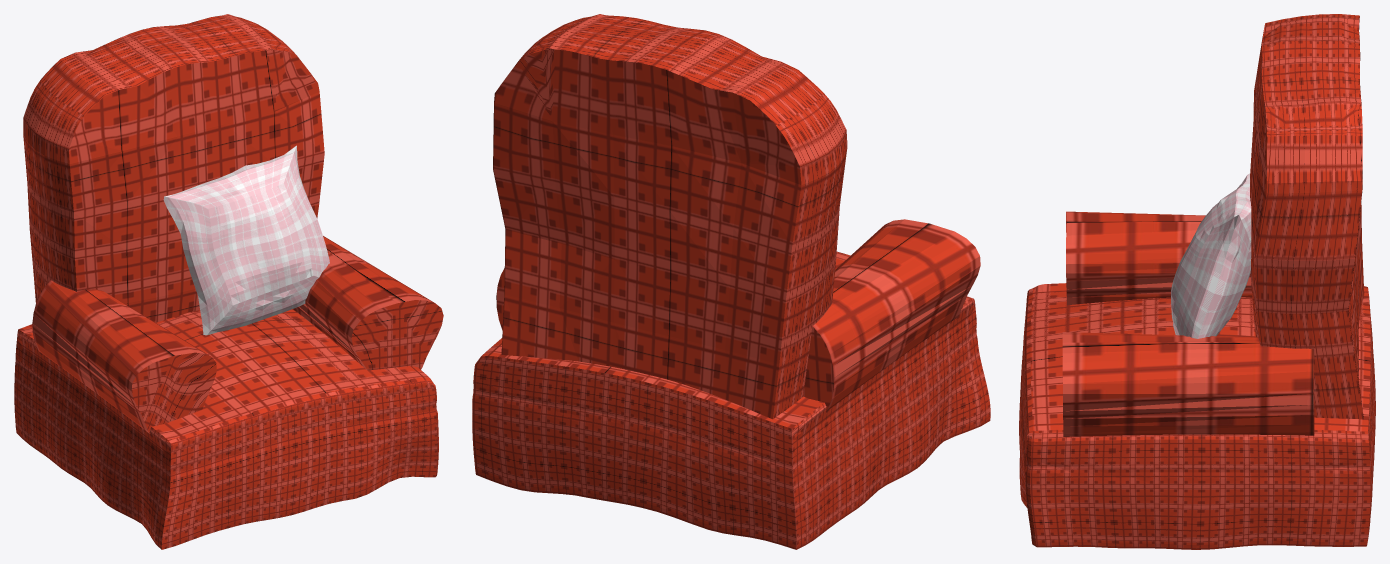
The model's file is sillon.obj.
3 views of the same model, side by side, from view 1: azimuth 30°, elevation 25°; view 2: azimuth 150°, elevation 25°; view 3: azimuth 270°, elevation 25° (orthographic). The views are drawn at different scales.
Visible parts, largest first — view 1: Cube, Cubo, Cubo.001_Cubo.002, Cilindro, Cilindro.001; view 2: Cubo, Cube, Cilindro; view 3: Cube, Cubo, Cilindro.001, Cilindro, Cubo.001_Cubo.002.
Boxes of the visible parts, x1,y1,x2,y2 form: Cube: (14, 309, 438, 549); Cubo: (23, 14, 324, 322); Cubo.001_Cubo.002: (163, 145, 329, 335); Cilindro: (32, 280, 216, 433); Cilindro.001: (292, 236, 443, 370); Cubo: (493, 14, 847, 419); Cube: (472, 251, 990, 549); Cilindro: (803, 219, 980, 411); Cube: (1019, 283, 1375, 549); Cubo: (1250, 14, 1364, 419); Cilindro.001: (1062, 332, 1314, 436); Cilindro: (1066, 211, 1252, 305); Cubo.001_Cubo.002: (1171, 173, 1251, 338).
Bounding box in the file's own units: 5.76 × 6.75 × 5.16.
Materials: 5 (5 with a texture image).
